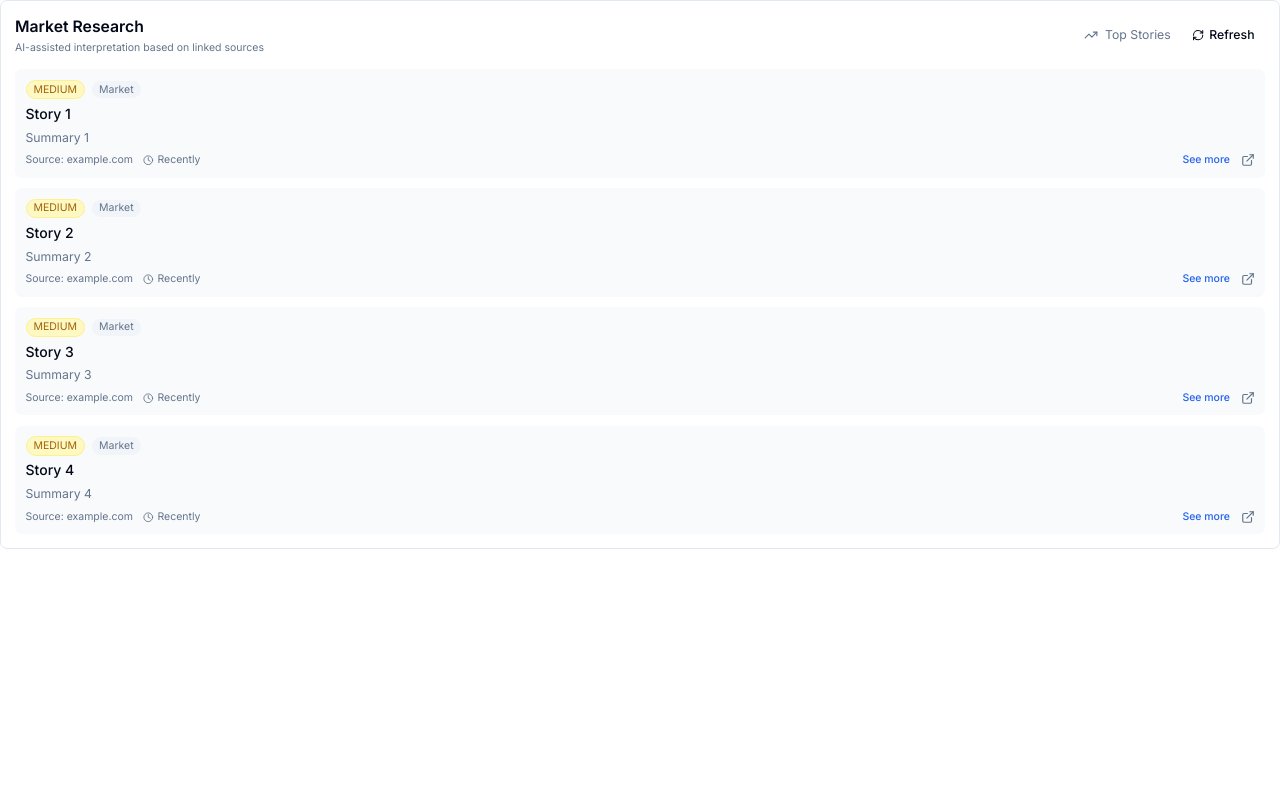
Test: MarketSummary › opens story details as a labelled dialog with supporting sources
Check: the heading "Story 1" is shown, box [26,105,71,122]
Step 1. Click the 1st button "See more" → (1206, 160), box [1182,153,1230,167]
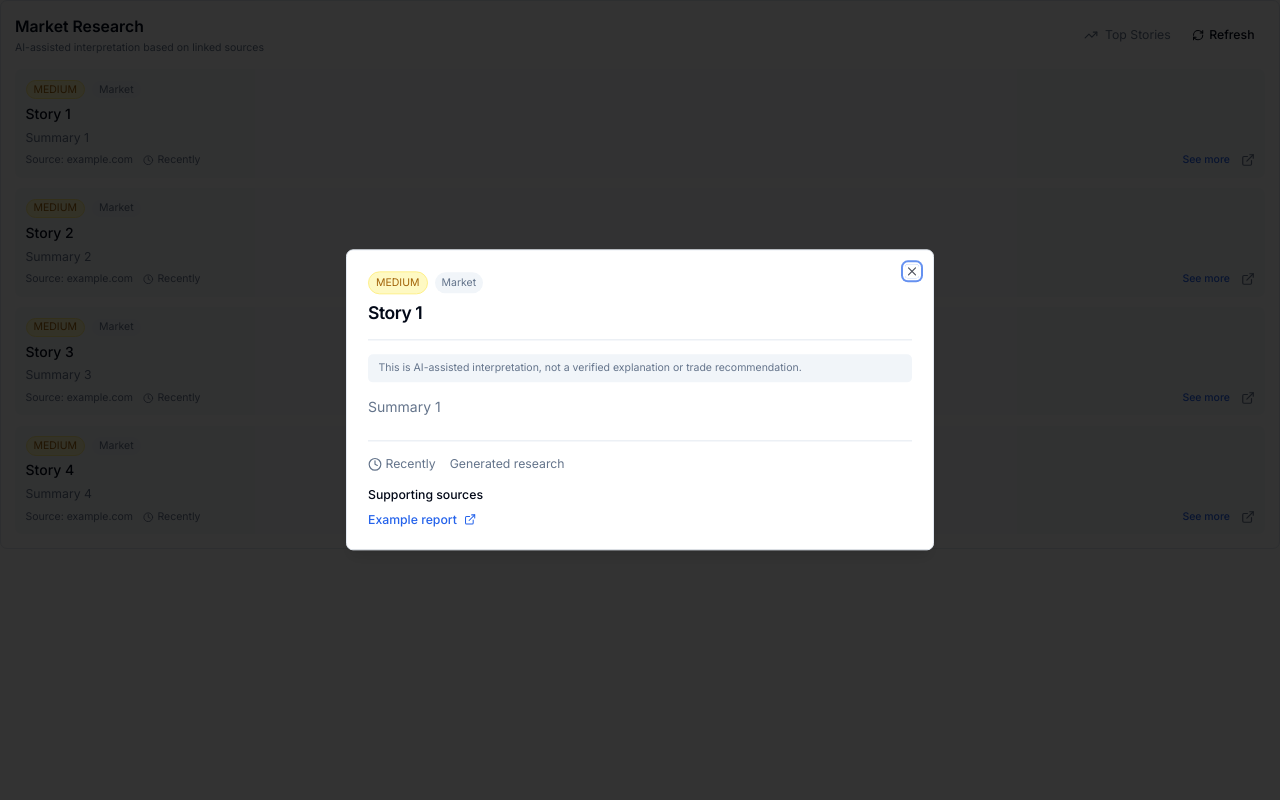
Check: the dialog "Story 1" is shown, box [346,249,934,551]
Check: the text "not a verified explanation or trade recommendation" is shown, box [378,361,802,374]
Step 2. Press Escape
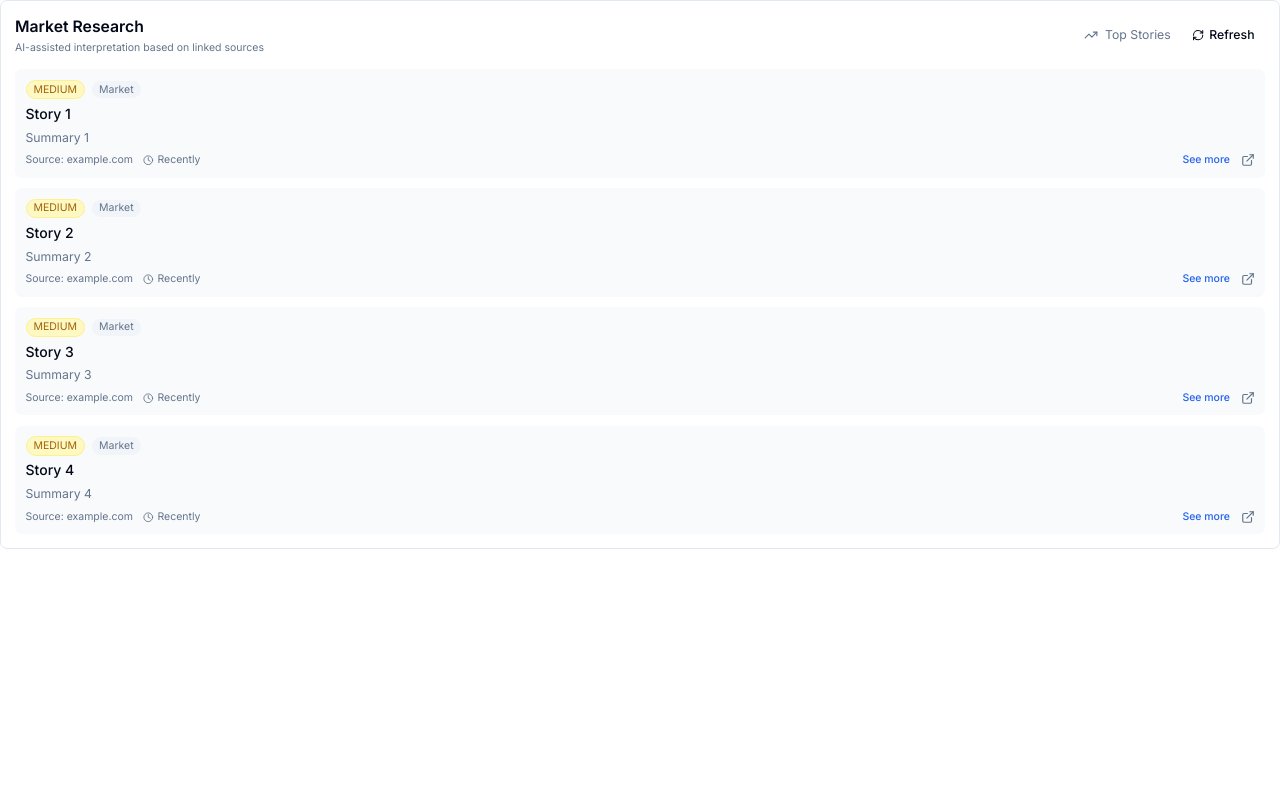
Check: the dialog is gone
